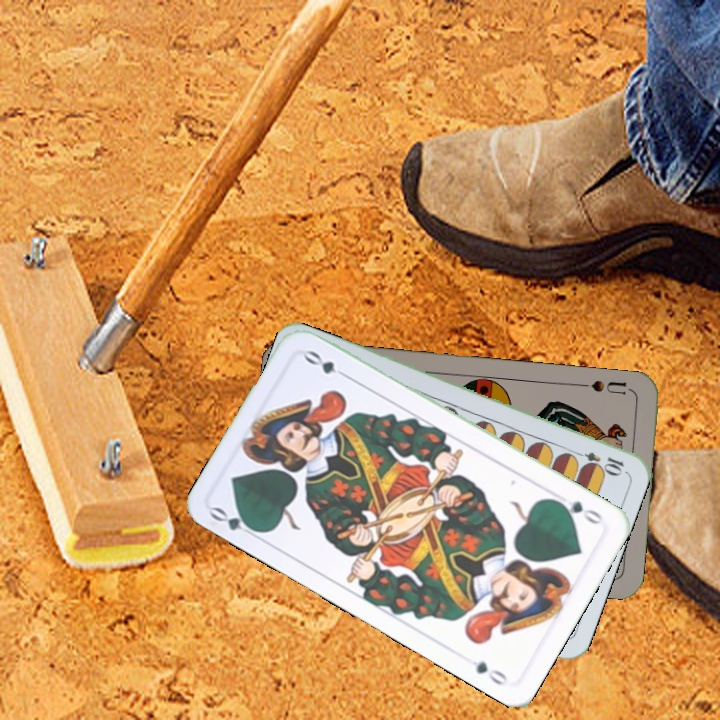E10: (568, 446, 627, 476)
GO: (206, 502, 263, 542), (550, 495, 605, 527)
SU: (576, 376, 635, 397)
